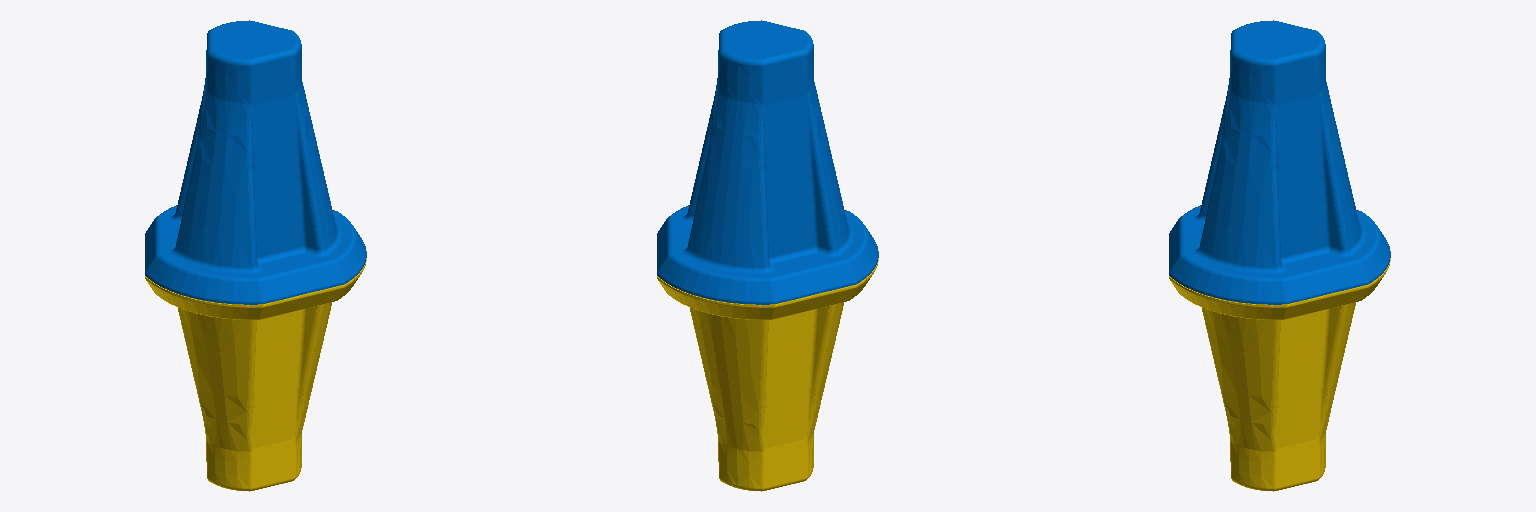
robot.urdf — override_pin_blue_yellow:
<?xml version='1.0' encoding='utf-8'?>
<robot name="override_pin_blue_yellow">
  <link name="pin">
    <inertial>
      <mass value="0.075" />
      <origin xyz="0 0 0" rpy="0 0 0" />
      <inertia ixx="0.000183825" iyy="0.000183825" izz="0.000183825" ixy="0" ixz="0" iyz="0" />
    </inertial>
    <visual>
      <geometry>
        <mesh filename="../meshes/override/pin_upper.obj" />
      </geometry>
      <material name=".._meshes_override_pin_upper.obj">
        <color rgba=".02 .48 .83 1" />
      </material>
    </visual>
    <visual>
      <geometry>
        <mesh filename="../meshes/override/pin_lower.obj" />
      </geometry>
      <material name=".._meshes_override_pin_lower.obj">
        <color rgba=".98 .83 .05 1" />
      </material>
    </visual>
    <collision>
      <geometry>
        <mesh filename="pin_root_-1_band_0.stl" />
      </geometry>
    </collision>
    <collision>
      <geometry>
        <mesh filename="pin_root_-1_band_1.stl" />
      </geometry>
    </collision>
    <collision>
      <geometry>
        <mesh filename="pin_root_-1_band_2.stl" />
      </geometry>
    </collision>
    <collision>
      <geometry>
        <mesh filename="pin_root_-1_band_3.stl" />
      </geometry>
    </collision>
    <collision>
      <geometry>
        <mesh filename="pin_root_1_band_0.stl" />
      </geometry>
    </collision>
    <collision>
      <geometry>
        <mesh filename="pin_root_1_band_1.stl" />
      </geometry>
    </collision>
    <collision>
      <geometry>
        <mesh filename="pin_root_1_band_2.stl" />
      </geometry>
    </collision>
    <collision>
      <geometry>
        <mesh filename="pin_root_1_band_3.stl" />
      </geometry>
    </collision>
    <collision>
      <geometry>
        <mesh filename="pin_taper_-1.stl" />
      </geometry>
    </collision>
    <collision>
      <geometry>
        <mesh filename="pin_taper_1.stl" />
      </geometry>
    </collision>
    <collision>
      <geometry>
        <mesh filename="pin_tip_-1.stl" />
      </geometry>
    </collision>
    <collision>
      <geometry>
        <mesh filename="pin_tip_1.stl" />
      </geometry>
    </collision>
    <collision>
      <geometry>
        <mesh filename="pin_flange.stl" />
      </geometry>
    </collision>
  </link>
</robot>

--- Facts derived from the render (not from the file) ---
3 views of the same robot in one strip: view 1: azimuth 30°, elevation 25°; view 2: azimuth 150°, elevation 25°; view 3: azimuth 270°, elevation 25° (orthographic).
Robot: override_pin_blue_yellow — 1 links, 0 joints (none); root link pin; default pose: every joint at zero.
Links seen in each view (by area): view 1: pin; view 2: pin; view 3: pin.
Link boxes in pixels (x1,y1,x2,y2): pin: [145, 20, 366, 491]; pin: [657, 20, 878, 491]; pin: [1169, 20, 1390, 491].
Bounding box of the posed robot: 0.0803 × 0.0768 × 0.165 m (x, y, z).
2 mesh visuals loaded from 2 distinct referenced files (2 OBJ).
